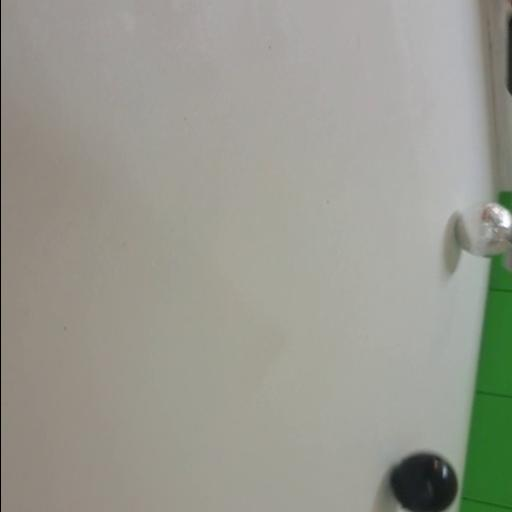alive: (455, 202, 512, 260)
dead: (388, 450, 460, 512)
